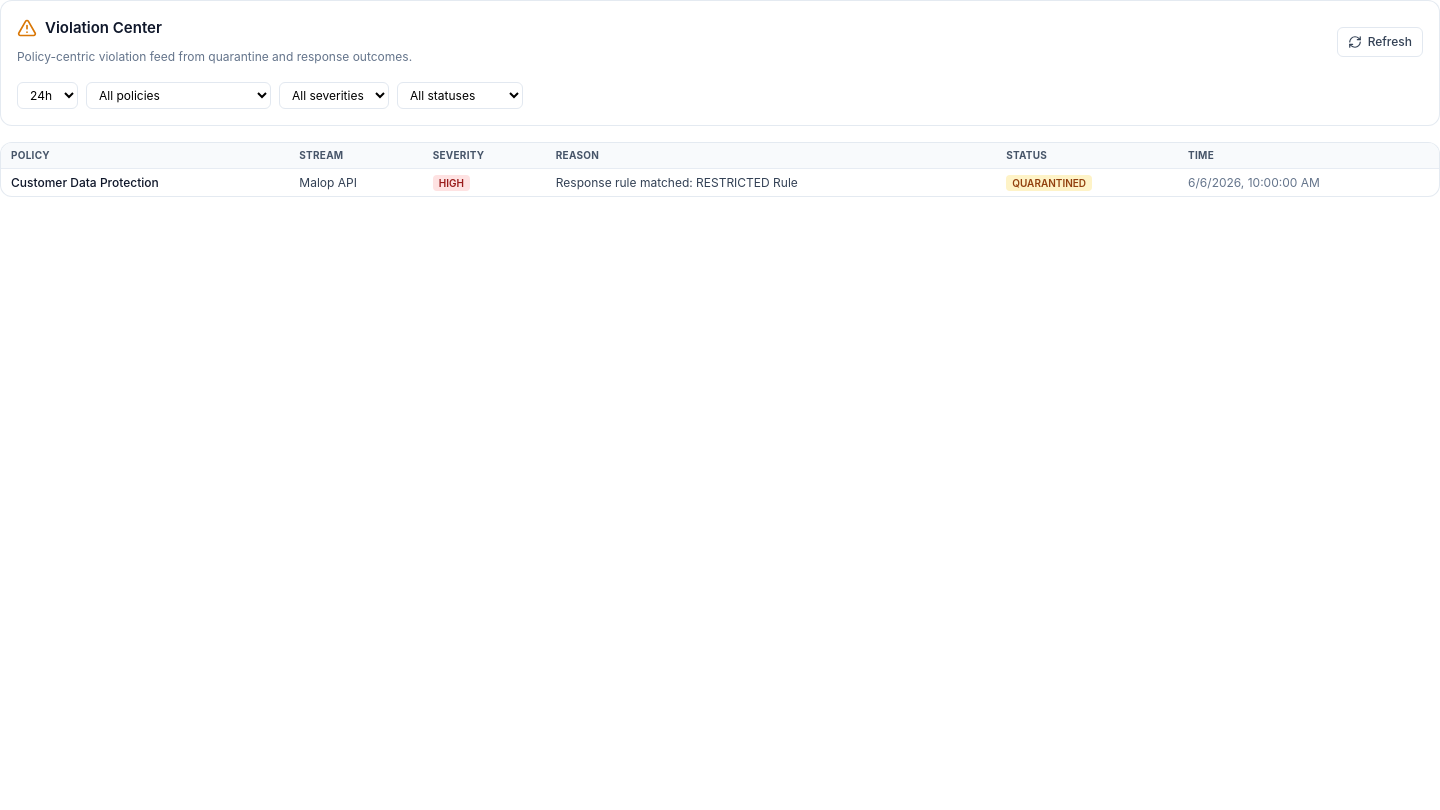
it: ViolationCenterPage › opens detail drawer on row click
The width and height of the screenshot is (1440, 810).
Click the row with test id "violation-row-q-42": (720, 182) [1, 168, 1439, 196]
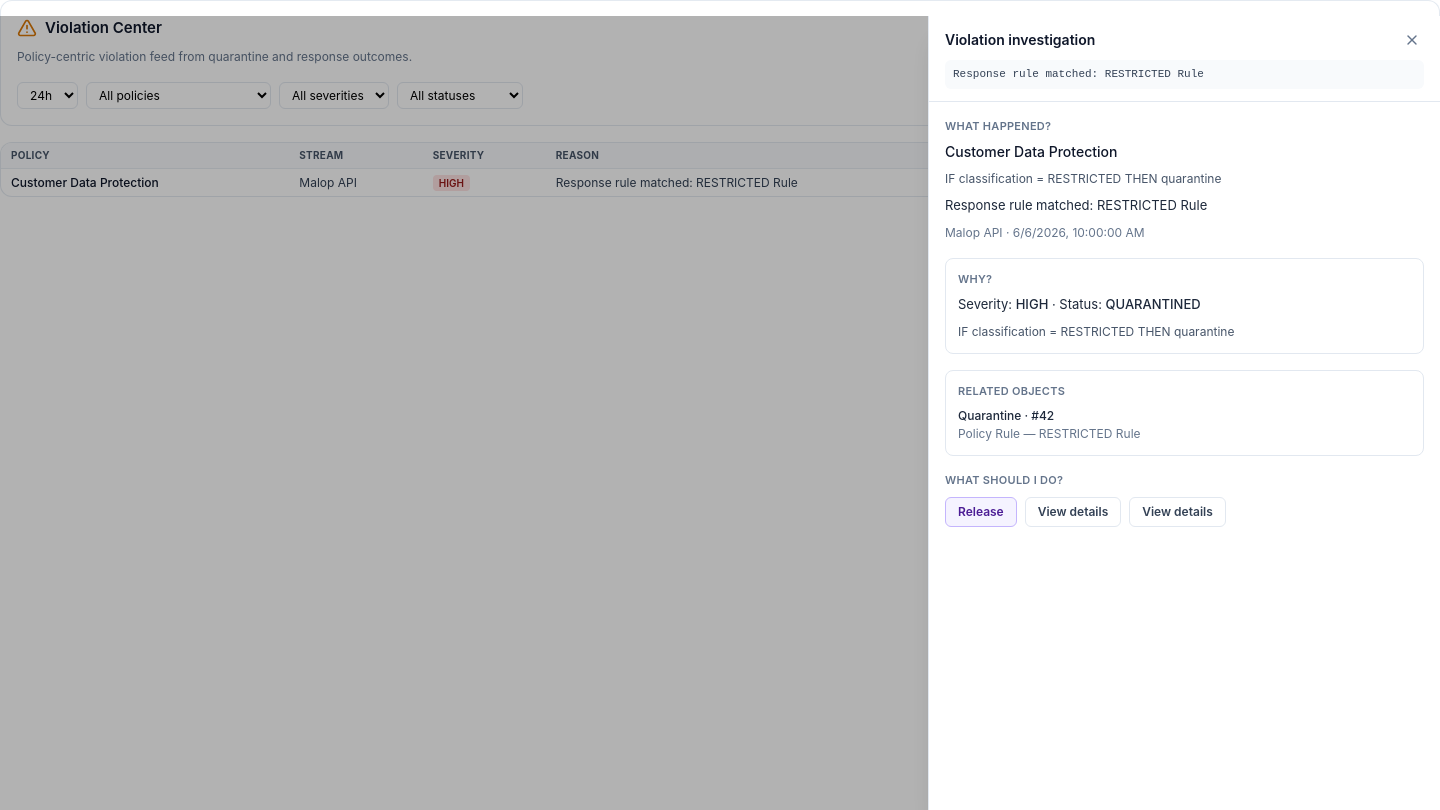
Check: the element with test id "violation-detail-drawer" is shown, box [928, 16, 1439, 809]
Check: the text "IF classification = RESTRICTED THEN quarantine" below "What happened?" is shown, box [945, 171, 1221, 186]
Check: the link with test id "violation-open-quarantine" is shown, box [945, 496, 1017, 526]
